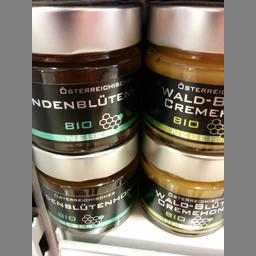honey: (31, 3, 143, 152), (146, 2, 225, 152), (28, 135, 140, 226), (140, 130, 226, 239)
